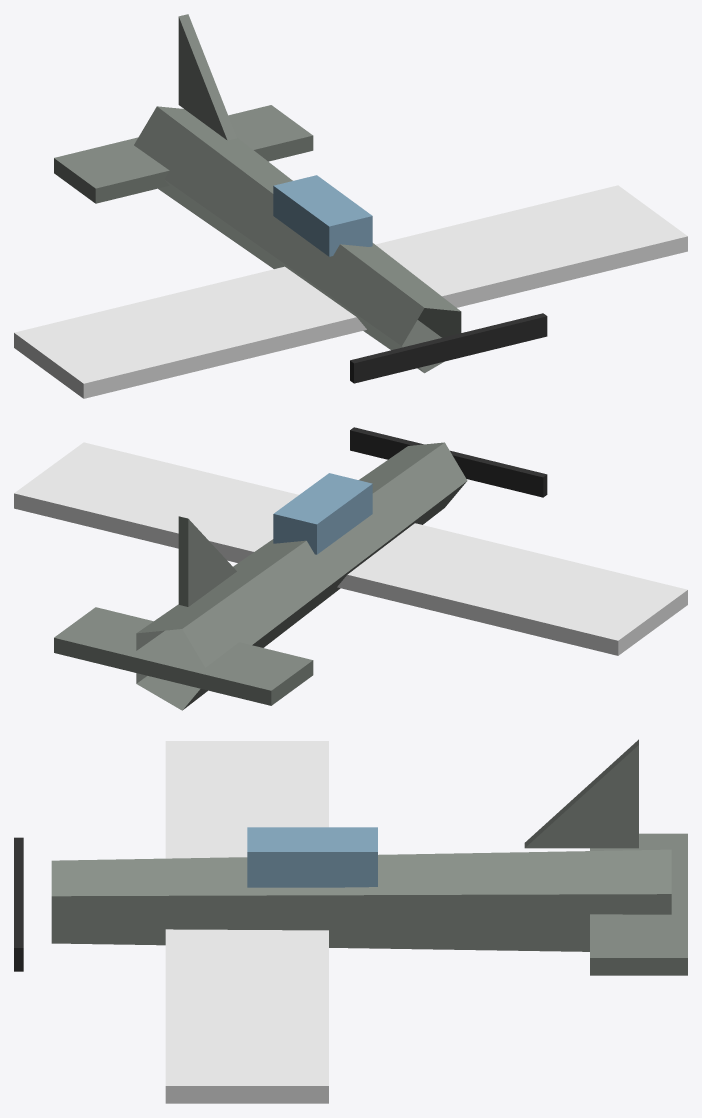
Rendered from Fighter.glb.
The picture shows the model from 3 angles, top to bottom: view 1: azimuth 30°, elevation 25°; view 2: azimuth 150°, elevation 25°; view 3: azimuth 270°, elevation 25°; orthographic projection. The views are drawn at different scales.
Visible parts, largest first — view 1: Units_Fighter; view 2: Units_Fighter; view 3: Units_Fighter.
Boxes of the visible parts, box(x1,y1,x2,y2) form: Units_Fighter: box(14, 14, 687, 398); Units_Fighter: box(14, 427, 687, 710); Units_Fighter: box(14, 739, 687, 1103).
Bounding box in the file's own units: 0.25 × 0.0712 × 0.2065.
